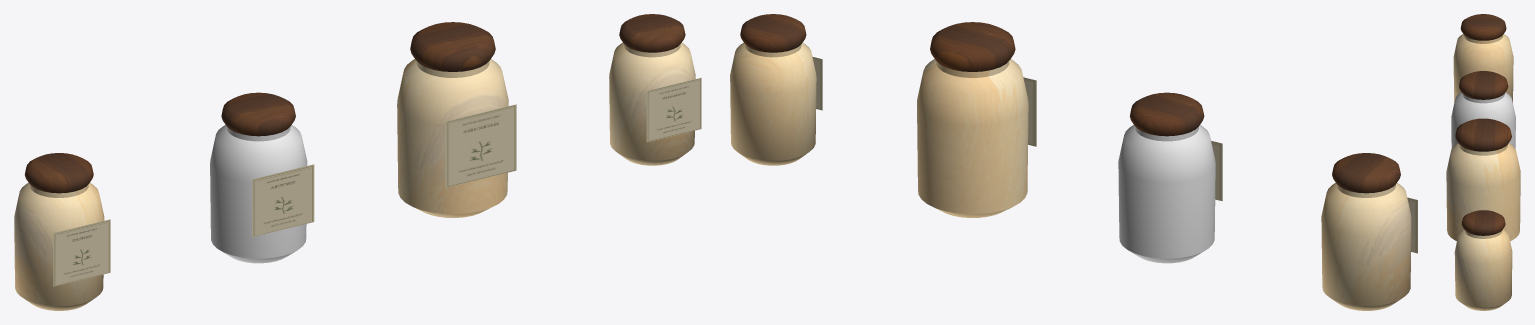
Rendered from CM_AF01_MedicineRowB.fbx.
3 renders of one model, left to right at view 1: azimuth 30°, elevation 25°; view 2: azimuth 150°, elevation 25°; view 3: azimuth 270°, elevation 25°, orthographic. The views are drawn at different scales.
Visible parts, largest first — view 1: CM_AF01_MedicineRowB; view 2: CM_AF01_MedicineRowB; view 3: CM_AF01_MedicineRowB.
Boxes of the visible parts, x1,y1,x2,y2 form: CM_AF01_MedicineRowB: (14, 14, 701, 310); CM_AF01_MedicineRowB: (730, 14, 1417, 310); CM_AF01_MedicineRowB: (1446, 14, 1520, 310).
Size of the model in its own units: 1.31 by 0.31 by 0.1902.
